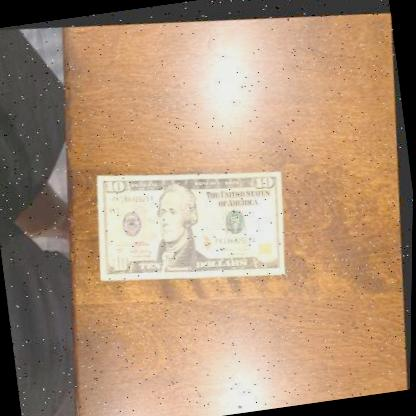dollar_front: (90, 147, 298, 293)
